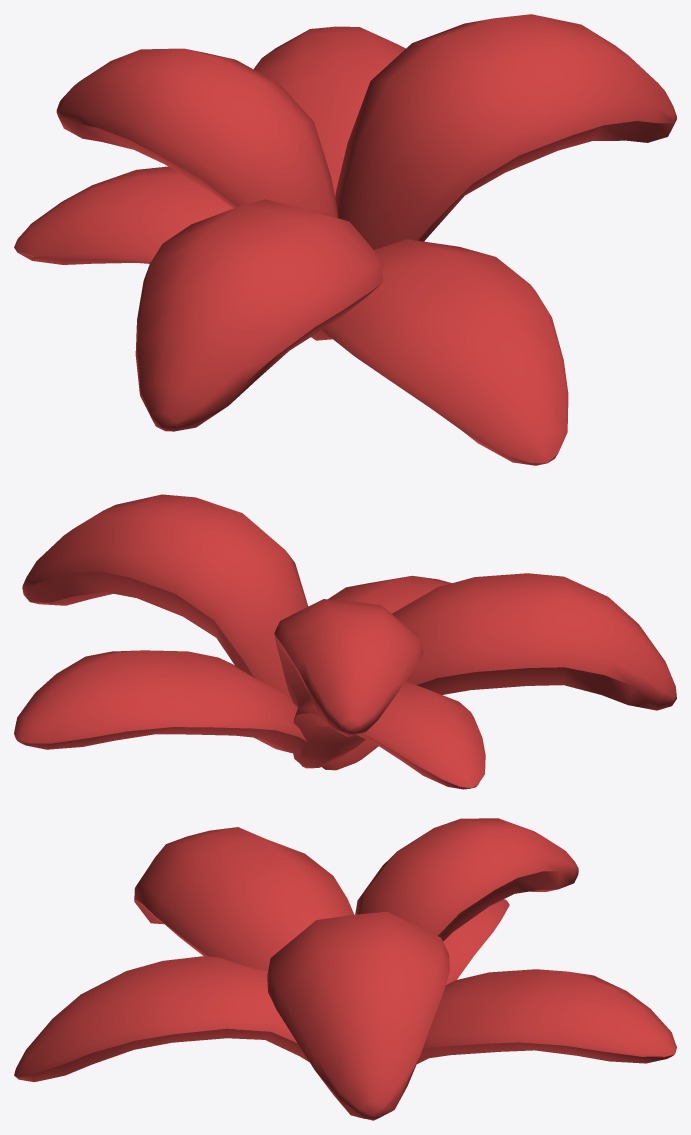
File: Plant 1 (Red) - Lvl 1.fbx
3 views of the same model, one above another, from view 1: azimuth 30°, elevation 25°; view 2: azimuth 150°, elevation 25°; view 3: azimuth 270°, elevation 25° (orthographic). The views are drawn at different scales.
Visible parts, largest first — view 1: plantA_forest; view 2: plantA_forest; view 3: plantA_forest.
Boxes of the visible parts, x1,y1,x2,y2 form: plantA_forest: (14, 14, 676, 465); plantA_forest: (14, 494, 676, 789); plantA_forest: (14, 818, 676, 1120).
Bounding box in the file's own units: 43.02 × 44.53 × 16.82.
